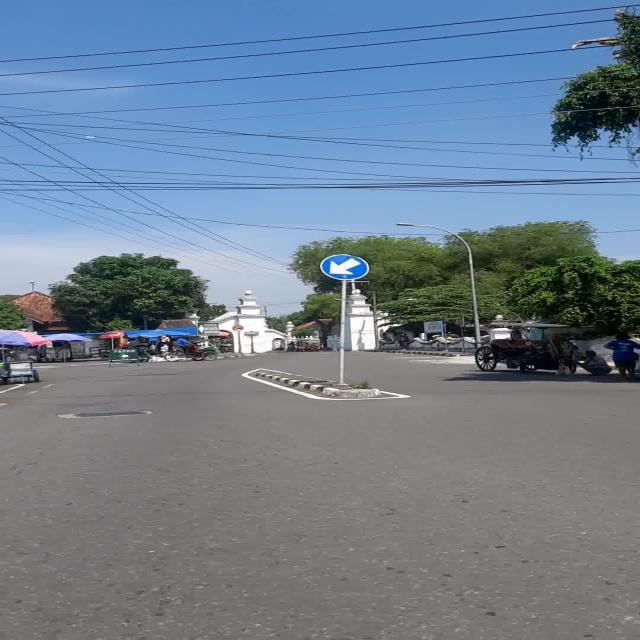Lajur Kiri: (320, 253, 370, 280)
